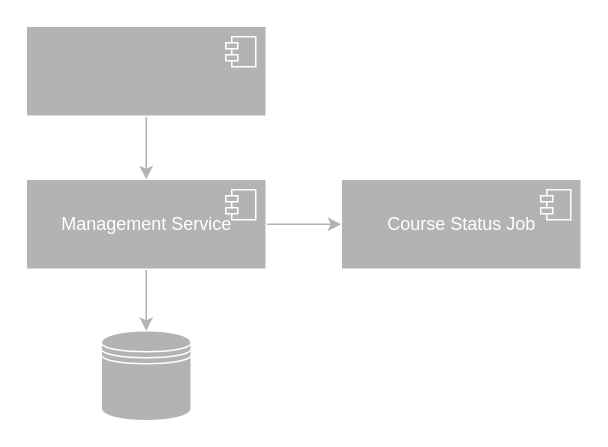
Image size: 608x447. Some labels were removed from this diagram. The shapes that lost their labels are listed below. From the top down, each one's centre as x and y in pixels, then its label:
At (x=145, y=70): "Frontend".
At (x=145, y=375): "SQLite".
